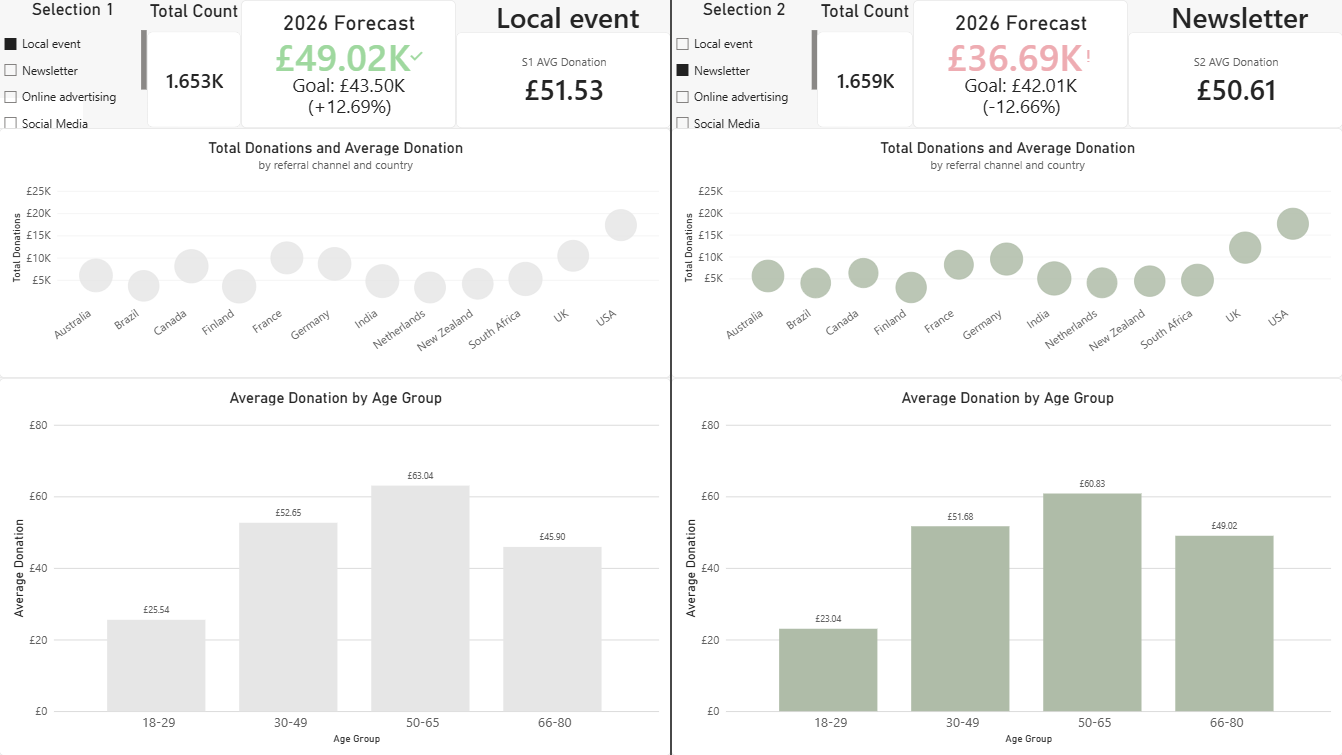

The dashboard page shown, as its layout file describes it:
{"tool":"powerbi","page":{"name":"Comparison","canvas":[1920,1080],"ordinal":2},"visuals":[{"type":"kpi","title":"2026 Forecast","fields":{"Goal":["Referral Slicer 1.S1 2024"],"Indicator":["Referral Slicer 1.S1 2026"],"TrendLine":["Referral Slicer 1.referral_channel"]},"box":[345.7,0,307.1,182.9],"z":0},{"type":"image","box":[0,140,120,182.9],"z":1000},{"type":"clusteredColumnChart","title":"Average Donation by Age Group","fields":{"Category":["animal_charity_donation_records.age_group"],"Series":["Referral Slicer 1.referral_channel"],"Y":["Referral Slicer 1.S1 AVG Donation"]},"box":[0,540,960,540],"z":2000},{"type":"scatterChart","title":"Total Donations and Average Donation","fields":{"Series":["Referral Slicer 1.referral_channel"],"Size":["Referral Slicer 1.S1 AVG Donation"],"X":["animal_charity_donation_records.country"],"Y":["Referral Slicer 1.Slicer 1 Total Donations"]},"box":[0,182.9,960,357.1],"z":3000},{"type":"cardVisual","fields":{"Data":["Referral Slicer 1.S1 AVG Donation"],"Rows":["Referral Slicer 1.referral_channel"]},"box":[652.9,0,307,183],"z":4000},{"type":"slicer","title":"Selection 1","fields":{"Values":["Referral Slicer 1.referral_channel"]},"box":[0,0,211.4,182.9],"z":5000},{"type":"kpi","title":"2026 Forecast","fields":{"Goal":["Referral Slicer 2.S2 2024"],"Indicator":["Referral Slicer 2.S2 2026"],"TrendLine":["Referral Slicer 2.referral_channel"]},"box":[1305.7,0,307.1,182.9],"z":6000},{"type":"clusteredColumnChart","title":"Average Donation by Age Group","fields":{"Category":["animal_charity_donation_records.age_group"],"Series":["Referral Slicer 2.referral_channel"],"Y":["Referral Slicer 2.S2 AVG Donation"]},"box":[960,540,960,540],"z":7000},{"type":"scatterChart","title":"Total Donations and Average Donation","fields":{"Series":["Referral Slicer 2.referral_channel"],"Size":["Referral Slicer 2.S2 AVG Donation"],"X":["animal_charity_donation_records.country"],"Y":["Referral Slicer 2.Slicer 2 Total Donations"]},"box":[960,182.9,960,357.1],"z":8000},{"type":"cardVisual","fields":{"Data":["Referral Slicer 2.S2 AVG Donation"],"Rows":["Referral Slicer 2.referral_channel"]},"box":[1612.9,0,307,183],"z":9000},{"type":"slicer","title":"Selection 2","fields":{"Values":["Referral Slicer 2.referral_channel"]},"box":[960,0,208.6,182.9],"z":10000},{"type":"shape","box":[938.6,0,42.9,1080],"z":11000},{"type":"cardVisual","title":"Total Count","fields":{"Data":["Referral Slicer 2.Slicer 2 Donations Count"]},"box":[1168.6,0,137.1,182.9],"z":12000},{"type":"cardVisual","title":"Total Count","fields":{"Data":["Referral Slicer 1.Slicer 1 Donations Count"]},"box":[211.4,0,134.3,182.9],"z":13000}]}

Visuals, with their boxes in screenshot pixels (x1, y1, x2, y2), scaled from the page's 1920x1080 canvas onto the 1342x755 screenshot:
"2026 Forecast" kpi: (242, 0, 456, 128)
image: (0, 98, 84, 226)
"Average Donation by Age Group" clusteredColumnChart: (0, 378, 671, 754)
"Total Donations and Average Donation" scatterChart: (0, 128, 671, 378)
cardVisual - Referral Slicer 1.S1 AVG Donation x Referral Slicer 1.referral_channel: (456, 0, 671, 128)
"Selection 1" slicer: (0, 0, 148, 128)
"2026 Forecast" kpi: (913, 0, 1127, 128)
"Average Donation by Age Group" clusteredColumnChart: (671, 378, 1341, 754)
"Total Donations and Average Donation" scatterChart: (671, 128, 1341, 378)
cardVisual - Referral Slicer 2.S2 AVG Donation x Referral Slicer 2.referral_channel: (1127, 0, 1341, 128)
"Selection 2" slicer: (671, 0, 817, 128)
shape: (656, 0, 686, 754)
"Total Count" cardVisual: (817, 0, 913, 128)
"Total Count" cardVisual: (148, 0, 242, 128)
